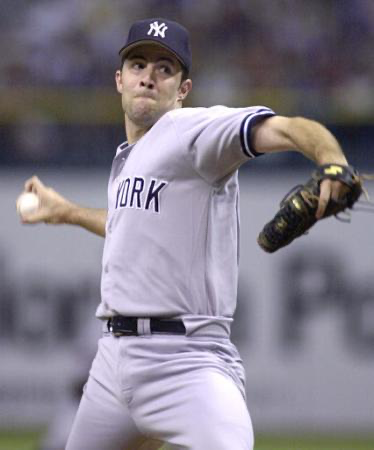Face: (114, 48, 184, 123)
